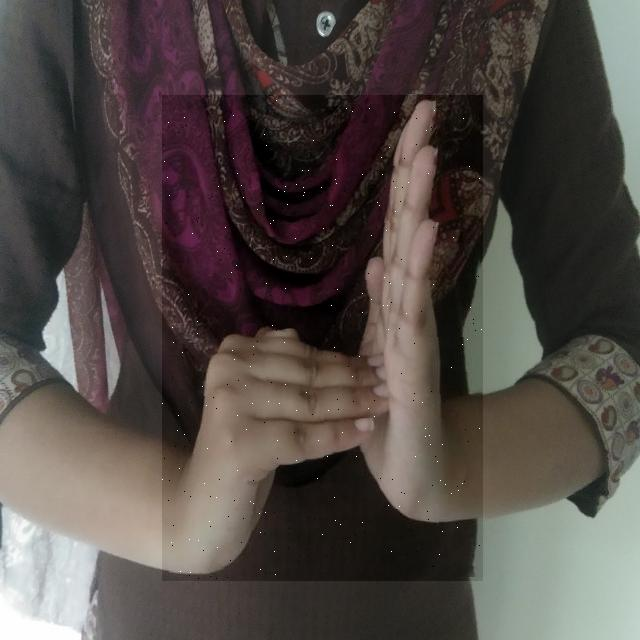Z: (162, 95, 483, 581)
